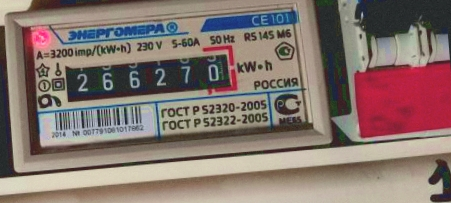0: (206, 61, 219, 82)
2: (74, 70, 90, 92), (153, 65, 166, 87)
6: (100, 70, 115, 91), (126, 68, 140, 88)
7: (178, 63, 192, 85)
screen: (53, 40, 244, 112)
